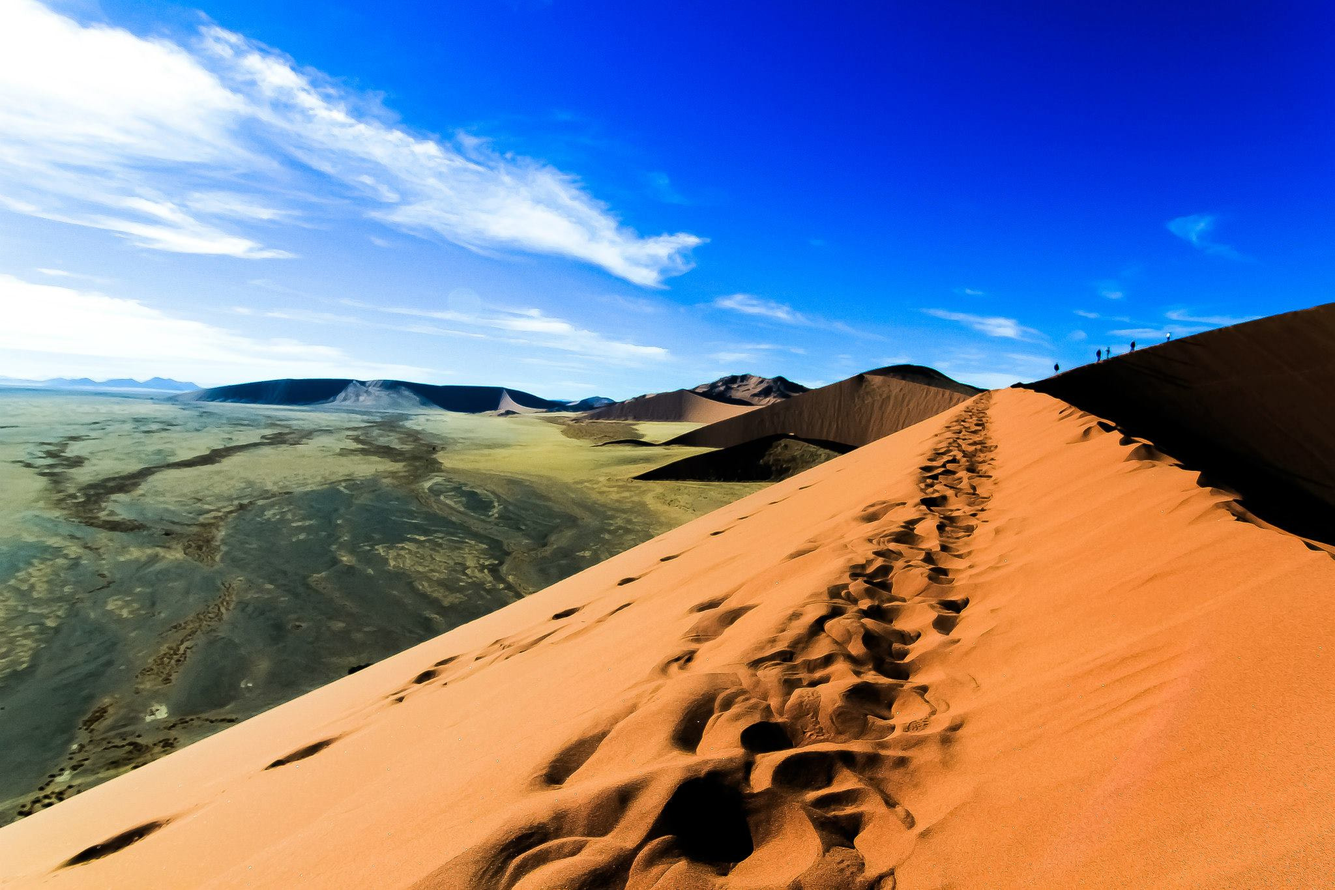human_footprint: (428, 397, 992, 889)
